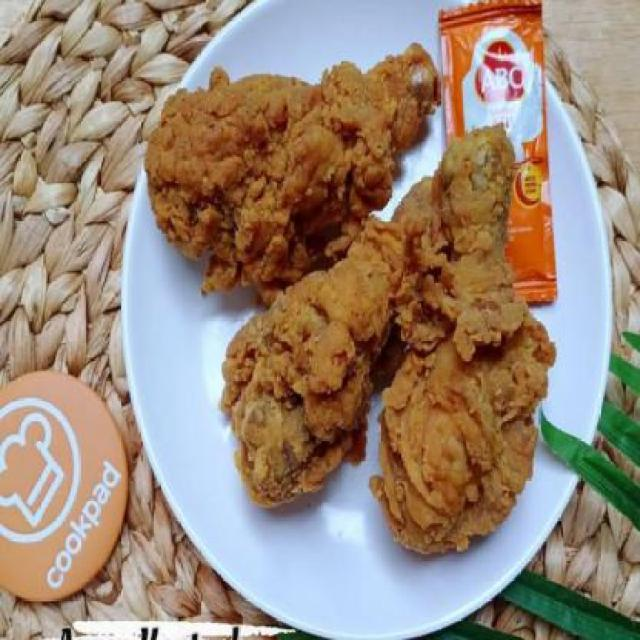Chicken -Fried Chicken-: (374, 123, 543, 557), (221, 174, 437, 506), (146, 41, 443, 274)
